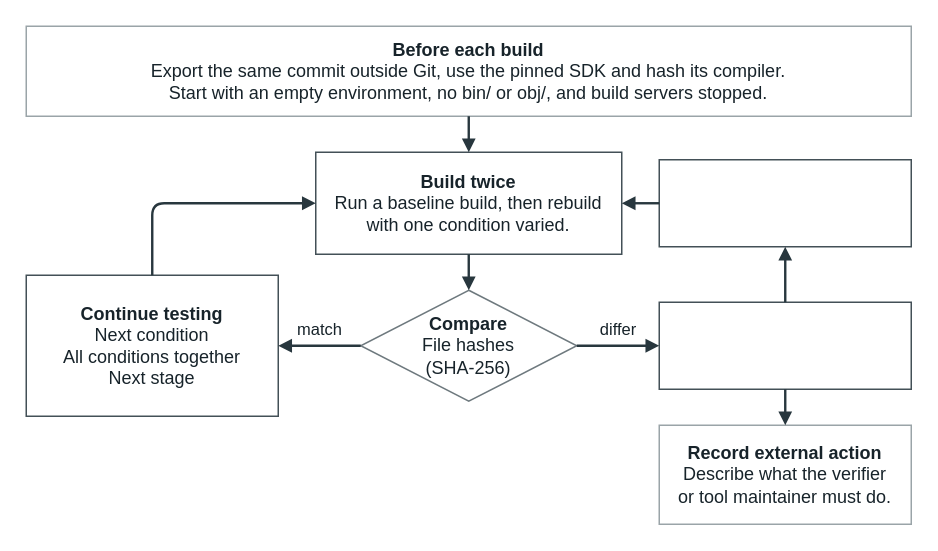
Image size: 938x551. Some labels were removed from this diagram. Here are the shapes that lost their labels. From the top down, the centre of each, then its label:
point (784, 202): Apply a fix and retest
point (784, 345): Trace the difference Identify the file and field.
